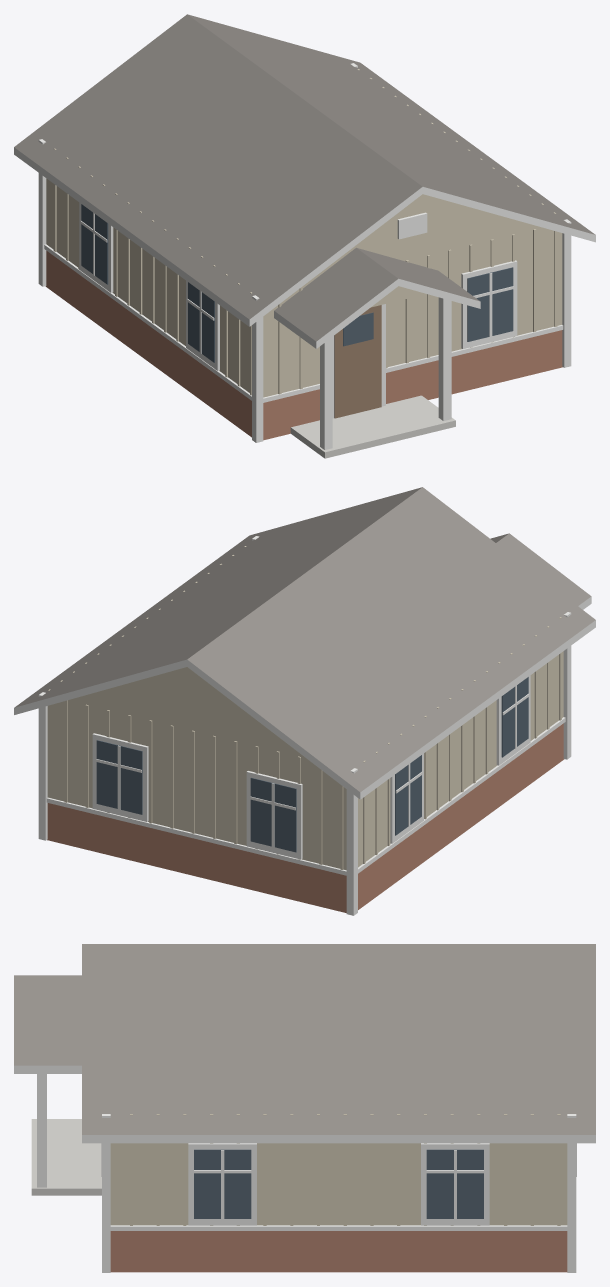
Rendered from cherry-craftsman.glb.
3 views of the same model, one above another, from view 1: azimuth 30°, elevation 25°; view 2: azimuth 150°, elevation 25°; view 3: azimuth 270°, elevation 25° (orthographic). The views are drawn at different scales.
Visible parts, largest first — view 1: The Cherry (craftsman); view 2: The Cherry (craftsman); view 3: The Cherry (craftsman).
Part boxes in pixels (x1,y1,x2,y2): The Cherry (craftsman): (14,14,595,458); The Cherry (craftsman): (14,487,595,915); The Cherry (craftsman): (14,944,595,1272).
Size of the model in its own units: 6.86 by 4.27 by 9.15.
